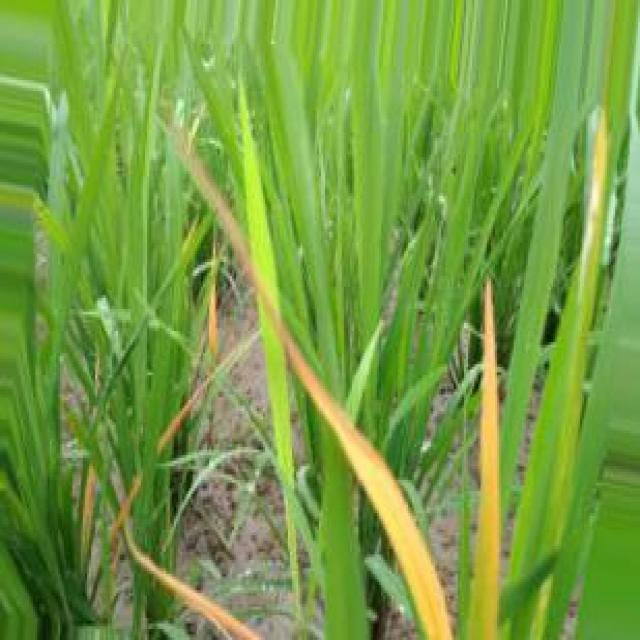Rice Tungro: (172, 127, 451, 638), (124, 524, 260, 638), (481, 293, 499, 552), (158, 373, 215, 453), (110, 474, 141, 573), (80, 464, 98, 568), (208, 280, 218, 355)
